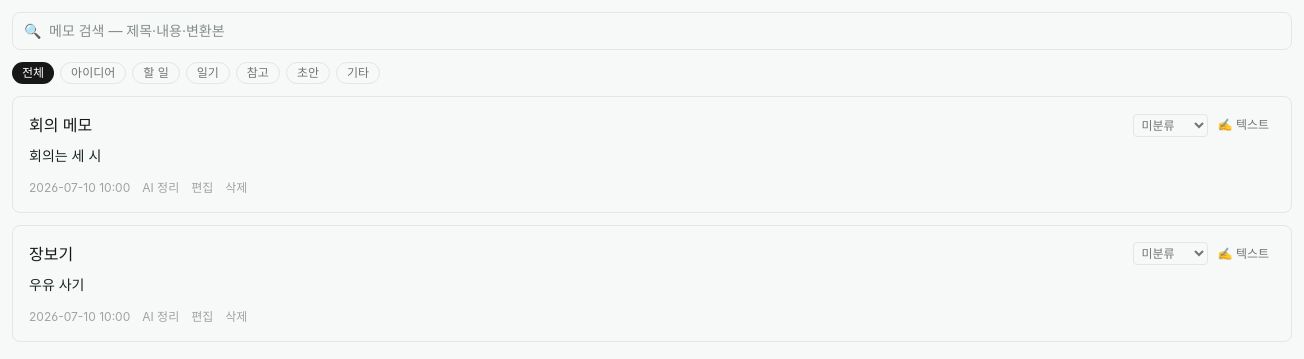
Scenario: SearchableMemoList › ESC로 지우면 원본 목록으로 돌아간다
Type "회의" into the search field labelled "메모 검색" at (652,31), box top-left (12, 12), bottom-right (1292, 50)
Wait 300 ms
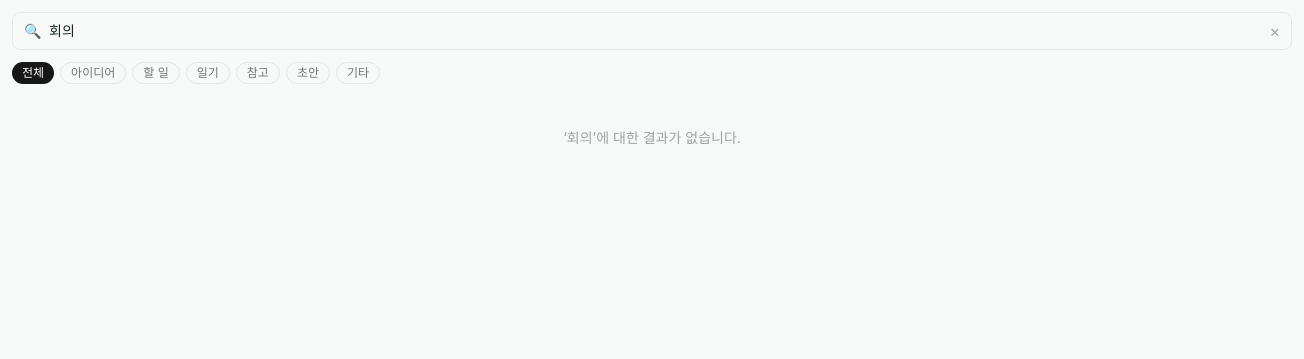
Press Escape in the search field named "메모 검색", box top-left (12, 12), bottom-right (1292, 50)
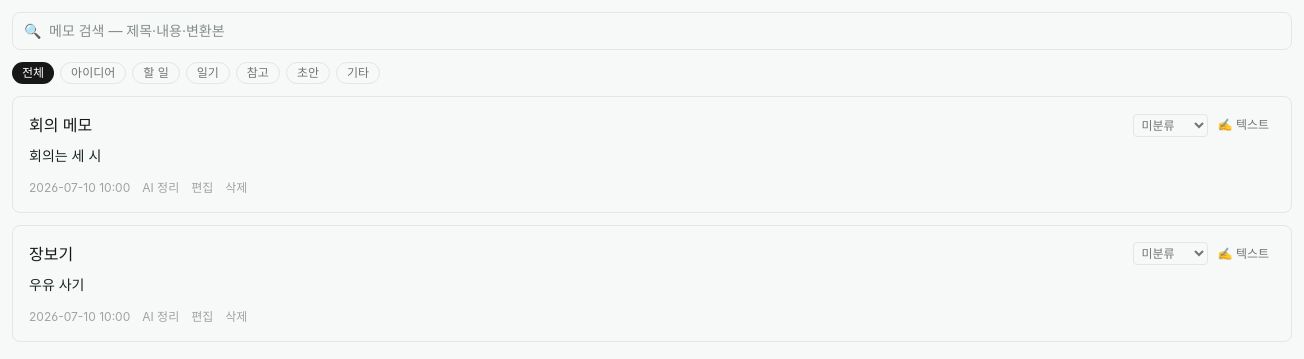
Check: the search field labelled "메모 검색" is empty, box top-left (12, 12), bottom-right (1292, 50)
Check: the heading "장보기" is shown, box top-left (29, 242), bottom-right (73, 266)
